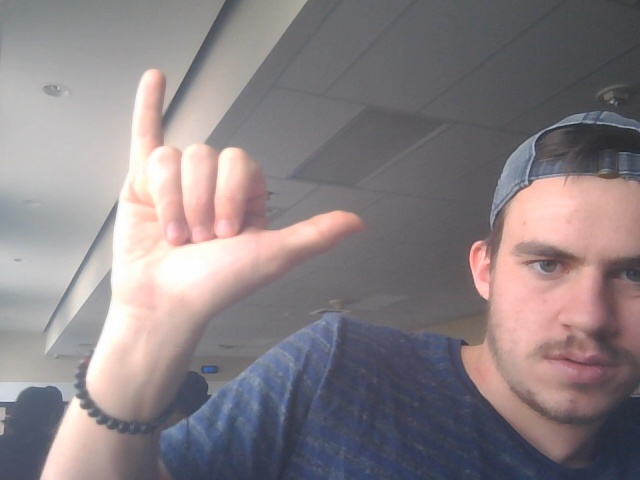birdsup: (89, 63, 378, 329)
